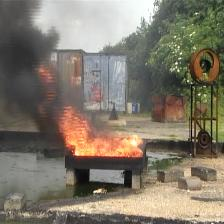fire: (38, 68, 144, 158)
